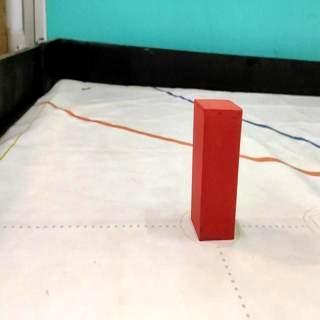redbox: (190, 97, 243, 241)
